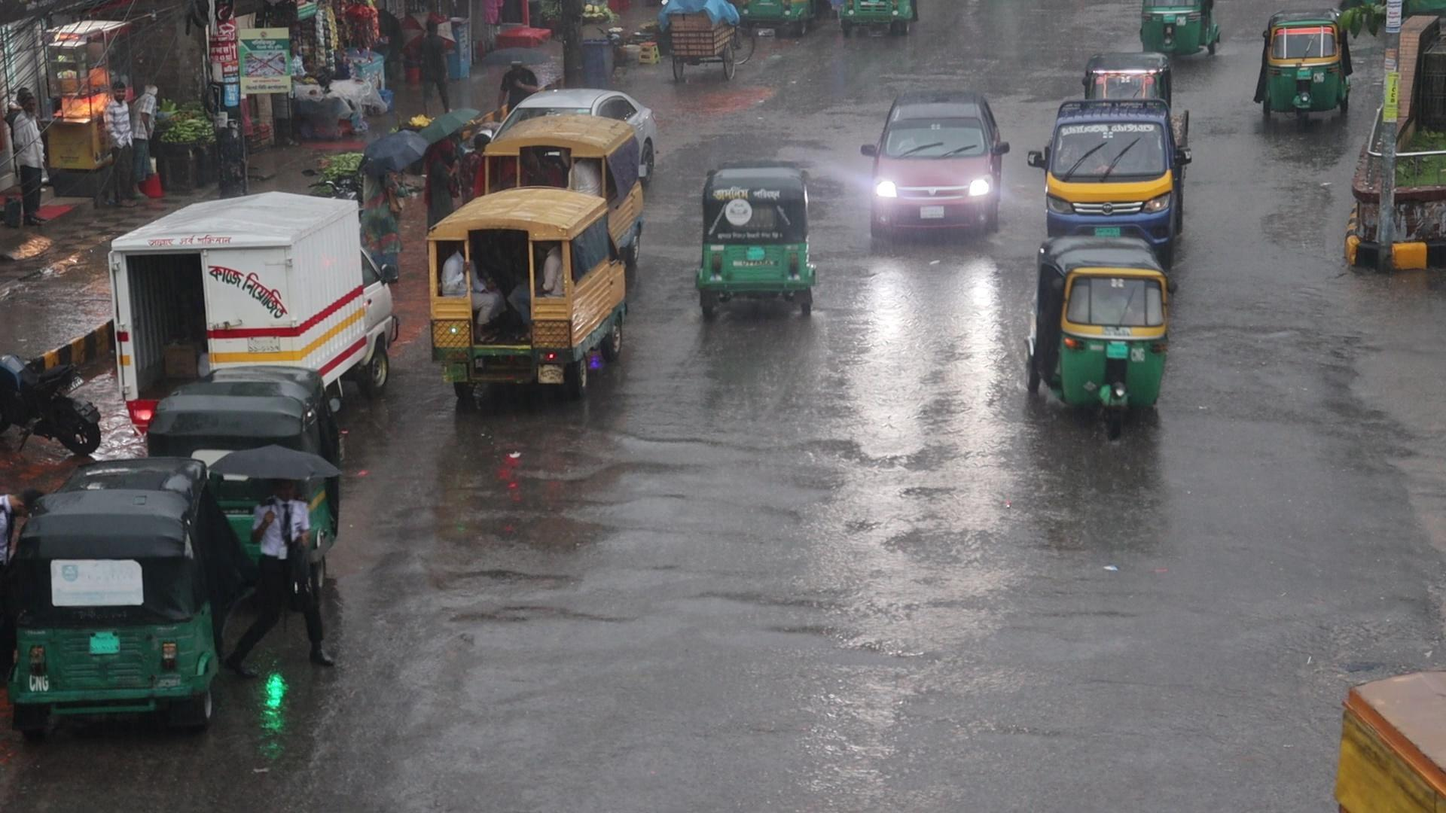Car: (869, 95, 1004, 238)
Truck: (418, 183, 619, 402), (1036, 97, 1186, 247)
